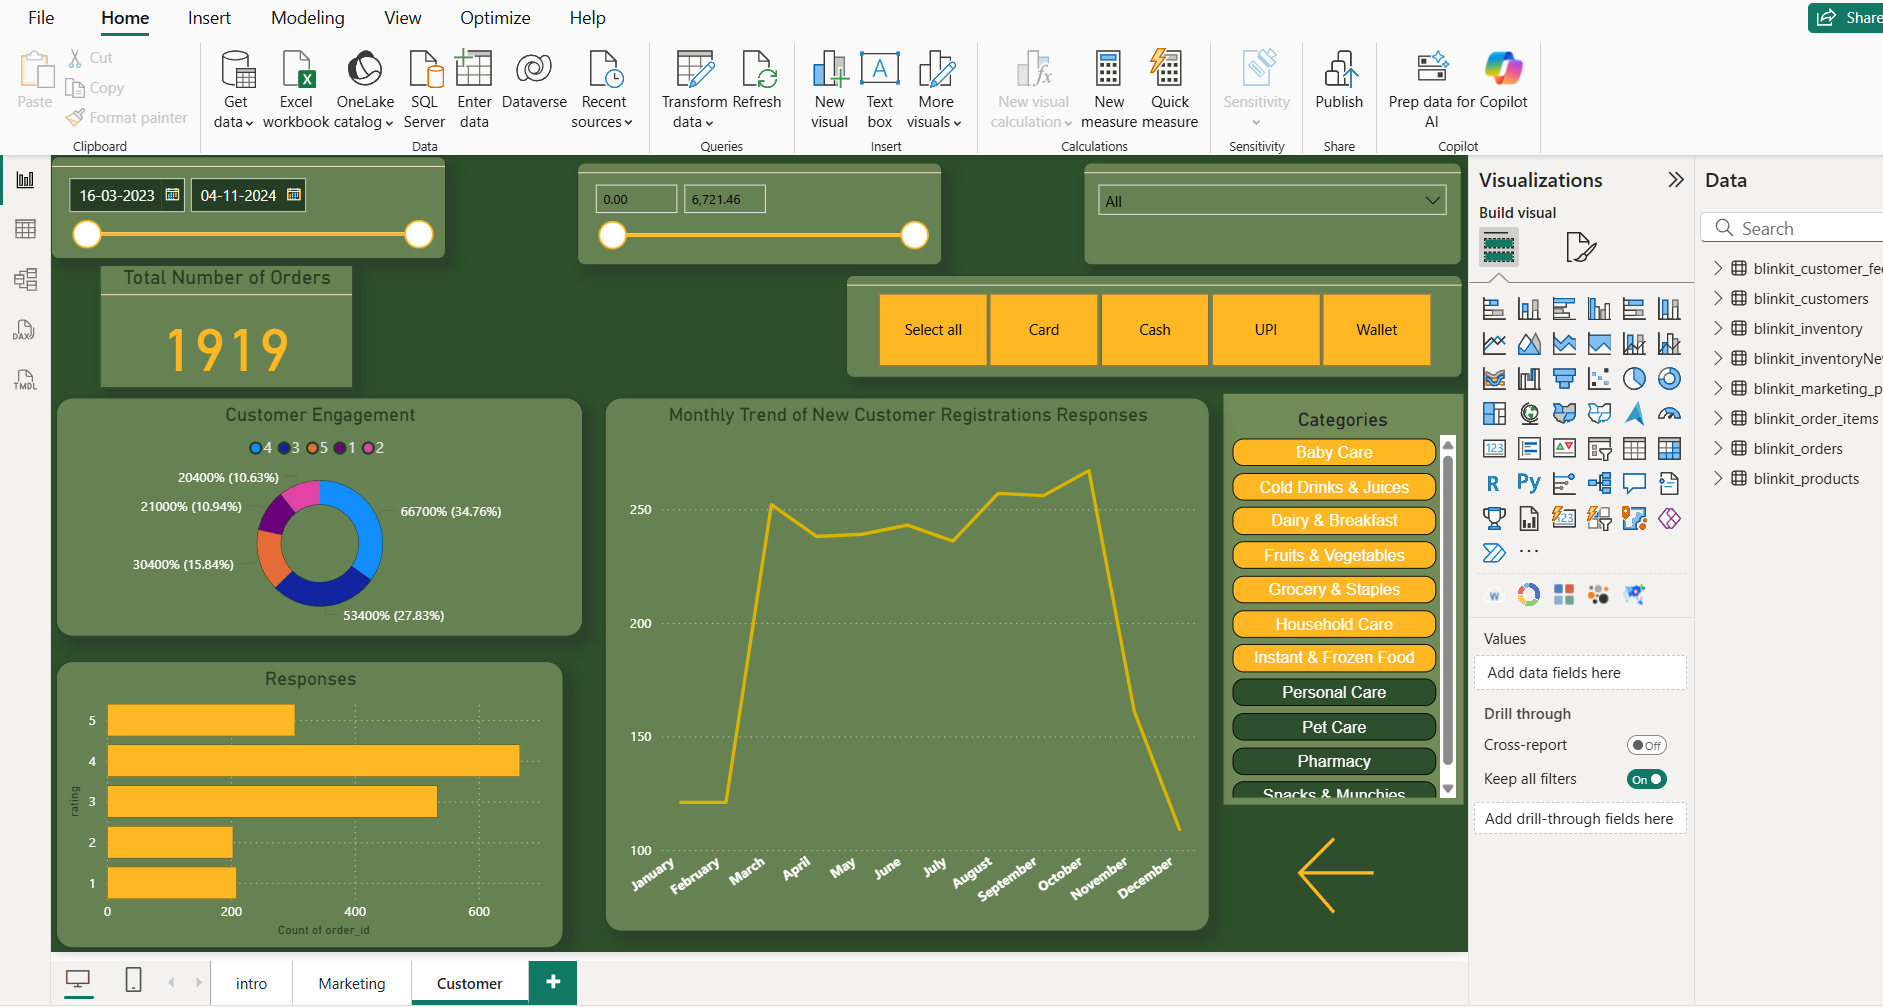

The page's visual inventory and layout, read from the dashboard file:
{"tool":"powerbi","page":{"name":"Customer","canvas":[1280,720],"ordinal":2},"visuals":[{"type":"slicer","fields":{"Values":["blinkit_customers.area"]},"box":[932.8,6.5,341.8,92.7],"z":0},{"type":"slicer","fields":{"Values":["blinkit_orders.order_date"]},"box":[0,1.1,356.9,92.7],"z":1000},{"type":"slicer","fields":{"Values":["blinkit_orders.order_total"]},"box":[475.6,6.5,330,92.7],"z":2000},{"type":"slicer","fields":{"Values":["blinkit_orders.payment_method"]},"box":[718.2,108.9,556.4,92.7],"z":3000},{"type":"card","title":"Total Number of Orders","fields":{"Values":["Count(blinkit_orders.order_id)"]},"box":[44.2,99.2,228.6,111.1],"z":4000},{"type":"donutChart","title":"Customer Engagement","fields":{"Y":["CountNonNull(blinkit_orders.order_date)"],"Category":["blinkit_customer_feedback.rating"]},"box":[4.4,218.5,476.4,215.8],"z":5000},{"type":"barChart","title":"                              Responses","fields":{"Category":["blinkit_customer_feedback.rating"],"Y":["CountNonNull(blinkit_customer_feedback.order_id)"]},"box":[4.4,457.2,458.6,259.5],"z":6000},{"type":"ChicletSlicer1448559807354","title":"Categories","fields":{"Category":["blinkit_products.category"]},"box":[1058.9,215.7,215.7,371],"z":7000},{"type":"actionButton","box":[1103.4,600.7,115.6,100.3],"z":8000},{"type":"lineChart","title":"     Monthly Trend of New Customer Registrations                         Responses","fields":{"Category":["blinkit_customers.registration_date.Variation.Date Hierarchy.Month"],"Y":["CountNonNull(blinkit_customers.customer_id)"]},"box":[500,218.6,546.5,482.6],"z":9000}]}

Visuals, with their boxes on the page's 1280x720 design canvas (x1, y1, x2, y2). These are canvas units, not pixel positions in the 1883x1007 screenshot, which may show the page scaled, cropped or inside an application window:
slicer - blinkit_customers.area: 933/6/1275/99
slicer - blinkit_orders.order_date: 0/1/357/94
slicer - blinkit_orders.order_total: 476/6/806/99
slicer - blinkit_orders.payment_method: 718/109/1275/202
"Total Number of Orders" card: 44/99/273/210
"Customer Engagement" donutChart: 4/218/481/434
"                              Responses" barChart: 4/457/463/717
"Categories" ChicletSlicer1448559807354: 1059/216/1275/587
actionButton: 1103/601/1219/701
"     Monthly Trend of New Customer Registrations                         Responses" lineChart: 500/219/1046/701
